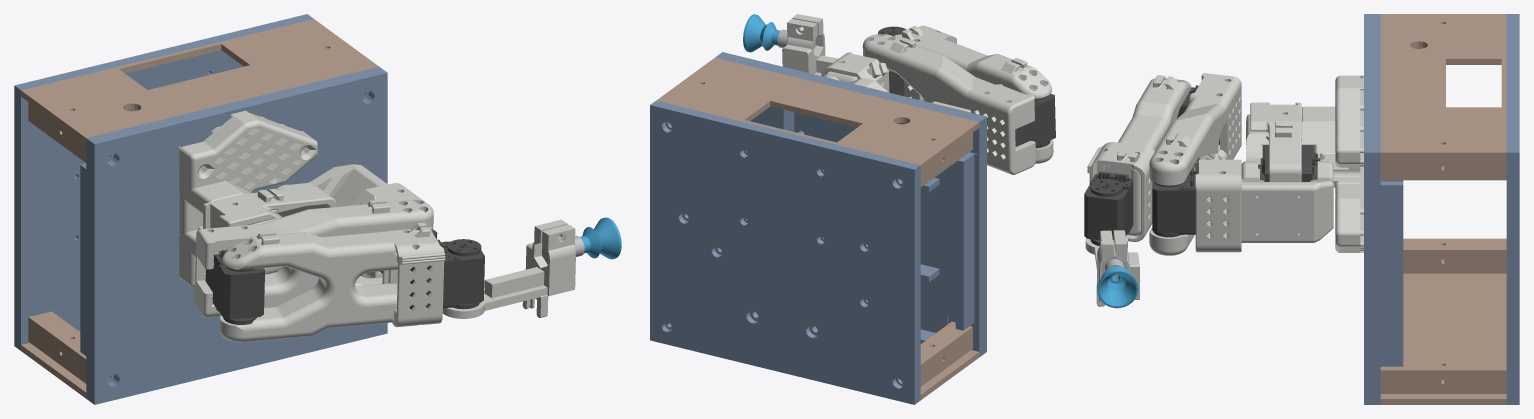
The model's file is assembly_rest.glb.
The picture shows the model from 3 angles, left to right: view 1: azimuth 30°, elevation 25°; view 2: azimuth 150°, elevation 25°; view 3: azimuth 270°, elevation 25°; orthographic projection. The views are drawn at different scales.
Parts seen in each view (by area): view 1: base_link_box_plate, base_link_box_wall, link3_print, base_link_print, link2_print, tool_link_print, link1_print, link2_servo, link3_servo, tool_link_cup; view 2: base_link_box_plate, base_link_box_wall, link2_print, link3_print, tool_link_print, link1_print, link2_servo, tool_link_cup, base_link_print; view 3: base_link_box_wall, base_link_box_plate, link1_print, base_link_print, link2_print, link3_print, link3_servo, link1_servo, tool_link_print, tool_link_cup, base_link_servo.
Boxes of the visible parts, x1,y1,x2,y2 form: base_link_box_plate: (14,14,387,404); base_link_box_wall: (21,19,378,398); link3_print: (219,222,445,342); base_link_print: (179,110,336,286); link2_print: (194,199,433,317); tool_link_print: (443,219,575,318); link1_print: (276,164,425,278); link2_servo: (205,249,264,324); link3_servo: (409,239,484,309); tool_link_cup: (580,217,621,259); base_link_box_plate: (650,52,986,404); base_link_box_wall: (656,57,979,399); link2_print: (862,34,1036,174); link3_print: (894,25,1053,163); tool_link_print: (782,14,838,75); link1_print: (821,52,889,91); link2_servo: (1015,94,1055,148); tool_link_cup: (743,14,780,52); base_link_print: (849,78,970,112); base_link_box_wall: (1380,14,1506,404); base_link_box_plate: (1364,14,1519,404); link1_print: (1195,153,1333,252); base_link_print: (1246,75,1363,252); link2_print: (1149,73,1241,255); link3_print: (1087,75,1191,241); link3_servo: (1084,171,1133,246); link1_servo: (1152,168,1226,237); tool_link_print: (1085,230,1139,306); tool_link_cup: (1097,266,1138,308); base_link_servo: (1258,145,1320,181).
Bounding box in the file's own units: 0.2658 × 0.17 × 0.2658.
